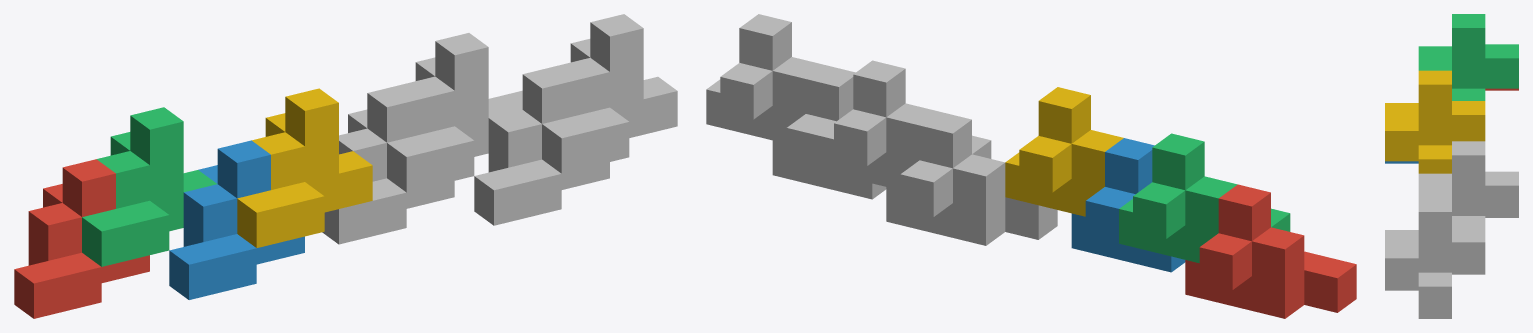
The model's file is tiling.obj.
The picture shows the model from 3 angles, left to right: view 1: azimuth 30°, elevation 25°; view 2: azimuth 150°, elevation 25°; view 3: azimuth 270°, elevation 25°; orthographic projection. The views are drawn at different scales.
Visible parts, largest first — view 1: copy_1_domain_8, copy_1_domain_4, copy_1_domain_7, copy_1_domain_3, copy_1_domain_1, copy_1_domain_2, copy_1_domain_6, copy_1_domain_5; view 2: copy_1_domain_1, copy_1_domain_5, copy_1_domain_7, copy_1_domain_3, copy_1_domain_4, copy_1_domain_8, copy_1_domain_6, copy_1_domain_2; view 3: copy_1_domain_8, copy_1_domain_4, copy_1_domain_3, copy_1_domain_7, copy_1_domain_6.
Part boxes in pixels (<box>): copy_1_domain_8: <box>542,14,677,173</box>; copy_1_domain_4: <box>237,88,372,247</box>; copy_1_domain_7: <box>387,33,522,192</box>; copy_1_domain_3: <box>82,107,217,266</box>; copy_1_domain_1: <box>14,159,149,318</box>; copy_1_domain_2: <box>169,140,304,299</box>; copy_1_domain_6: <box>474,66,609,225</box>; copy_1_domain_5: <box>322,85,454,244</box>; copy_1_domain_1: <box>1185,184,1356,318</box>; copy_1_domain_5: <box>886,111,1057,245</box>; copy_1_domain_7: <box>820,60,991,189</box>; copy_1_domain_3: <box>1119,133,1290,263</box>; copy_1_domain_4: <box>1005,87,1123,216</box>; copy_1_domain_8: <box>706,14,824,143</box>; copy_1_domain_6: <box>772,65,886,199</box>; copy_1_domain_2: <box>1071,138,1185,272</box>; copy_1_domain_8: <box>1385,197,1485,316</box>; copy_1_domain_4: <box>1385,70,1485,173</box>; copy_1_domain_3: <box>1418,14,1518,100</box>; copy_1_domain_7: <box>1418,141,1518,227</box>; copy_1_domain_6: <box>1385,272,1485,318</box>.
Size of the model in its own units: 19 by 4 by 4.
